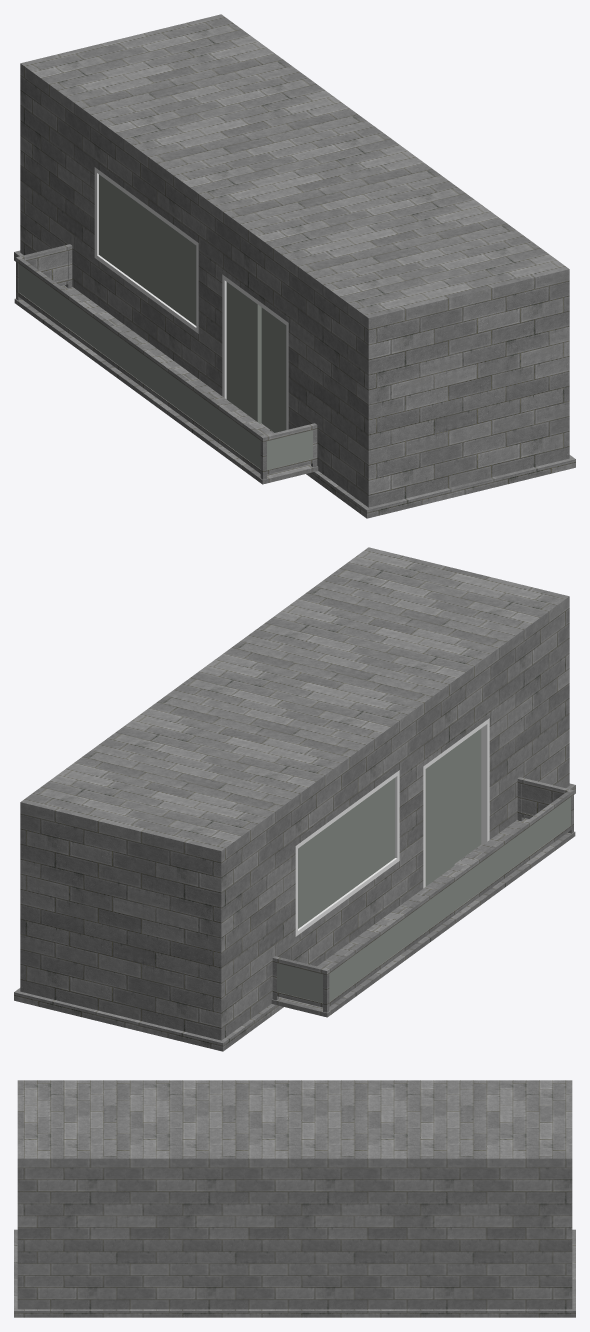
Rendered from Piso.fbx.
The picture shows the model from 3 angles, top to bottom: view 1: azimuth 30°, elevation 25°; view 2: azimuth 150°, elevation 25°; view 3: azimuth 270°, elevation 25°; orthographic projection. The views are drawn at different scales.
Visible parts, largest first — view 1: building_031; view 2: building_031; view 3: building_031.
Boxes of the visible parts, left/top/right/bottom form: building_031: left=14, top=14, right=575, bottom=518; building_031: left=14, top=547, right=575, bottom=1051; building_031: left=14, top=1080, right=575, bottom=1317.
Size of the model in its own units: 649 by 470 by 1520.
Materials: 2 (2 with a texture image).
